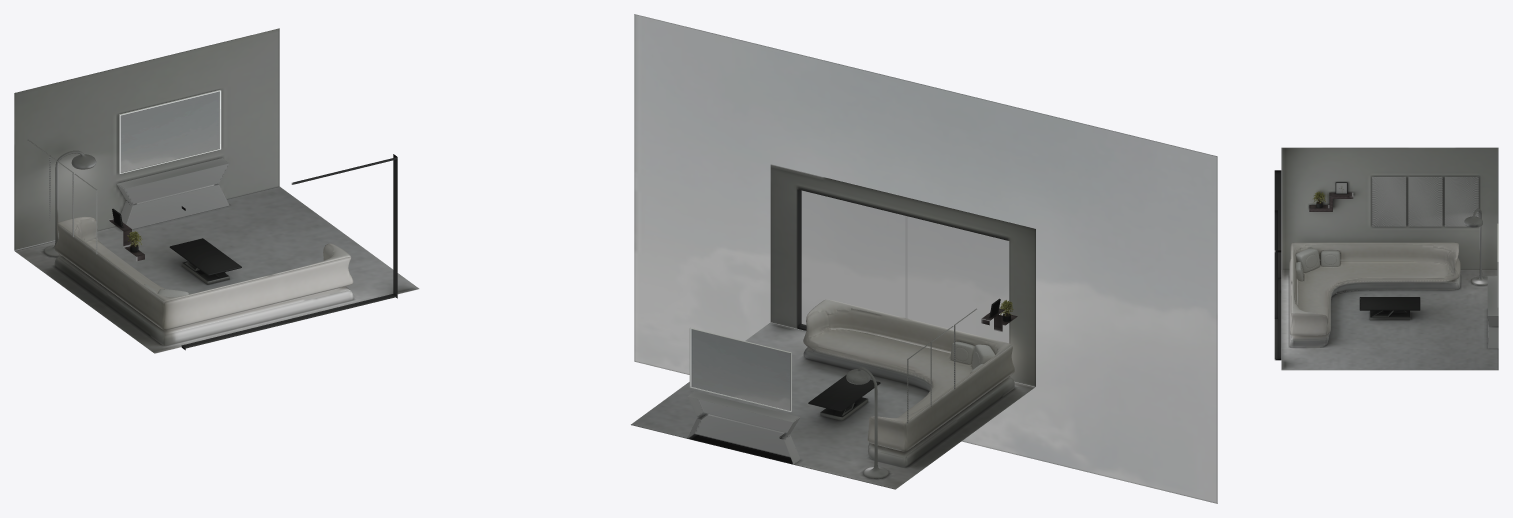
The model's file is white_room.glb.
The picture shows the model from 3 angles, left to right: view 1: azimuth 30°, elevation 25°; view 2: azimuth 150°, elevation 25°; view 3: azimuth 270°, elevation 25°; orthographic projection. The views are drawn at different scales.
Visible parts, largest first — view 1: Structure_Structure_0, Sofa_Sofa_0, TV_TV_0, TVStand_TVStand_0, CoffeeTable_CoffeeTable_0, Lamp_Lamp_0; view 2: Structure_Structure_0, Windows_Windows_0, Sofa_Sofa_0, TV_TV_0, TVStand_TVStand_0, CoffeeTable_CoffeeTable_0, Lamp_Lamp_0, Pillows_Pillows_0; view 3: Structure_Structure_0, Sofa_Sofa_0, AbstractArt_AbstractArt_0, CoffeeTable_CoffeeTable_0, Pillows_Pillows_0, TVStand_TVStand_0, Lamp_Lamp_0.
Boxes of the visible parts, bbox=[...] form: Structure_Structure_0: bbox=[14, 28, 419, 353]; Sofa_Sofa_0: bbox=[54, 217, 353, 345]; TV_TV_0: bbox=[118, 90, 221, 174]; TVStand_TVStand_0: bbox=[117, 158, 229, 229]; CoffeeTable_CoffeeTable_0: bbox=[169, 238, 241, 284]; Lamp_Lamp_0: bbox=[44, 150, 96, 256]; Structure_Structure_0: bbox=[631, 14, 1217, 503]; Windows_Windows_0: bbox=[802, 191, 1008, 342]; Sofa_Sofa_0: bbox=[803, 299, 1014, 467]; TV_TV_0: bbox=[689, 328, 791, 411]; TVStand_TVStand_0: bbox=[687, 391, 800, 464]; CoffeeTable_CoffeeTable_0: bbox=[808, 375, 880, 420]; Lamp_Lamp_0: bbox=[846, 367, 888, 478]; Pillows_Pillows_0: bbox=[951, 341, 994, 373]; Structure_Structure_0: bbox=[1274, 147, 1498, 370]; Sofa_Sofa_0: bbox=[1289, 242, 1460, 347]; AbstractArt_AbstractArt_0: bbox=[1372, 176, 1478, 226]; CoffeeTable_CoffeeTable_0: bbox=[1359, 297, 1420, 320]; Pillows_Pillows_0: bbox=[1296, 248, 1340, 280]; TVStand_TVStand_0: bbox=[1487, 276, 1498, 348]; Lamp_Lamp_0: bbox=[1464, 208, 1487, 285].
Bounding box in the file's own units: 11.81 × 6.73 × 5.72.
Materials: 11 (10 with a texture image).
